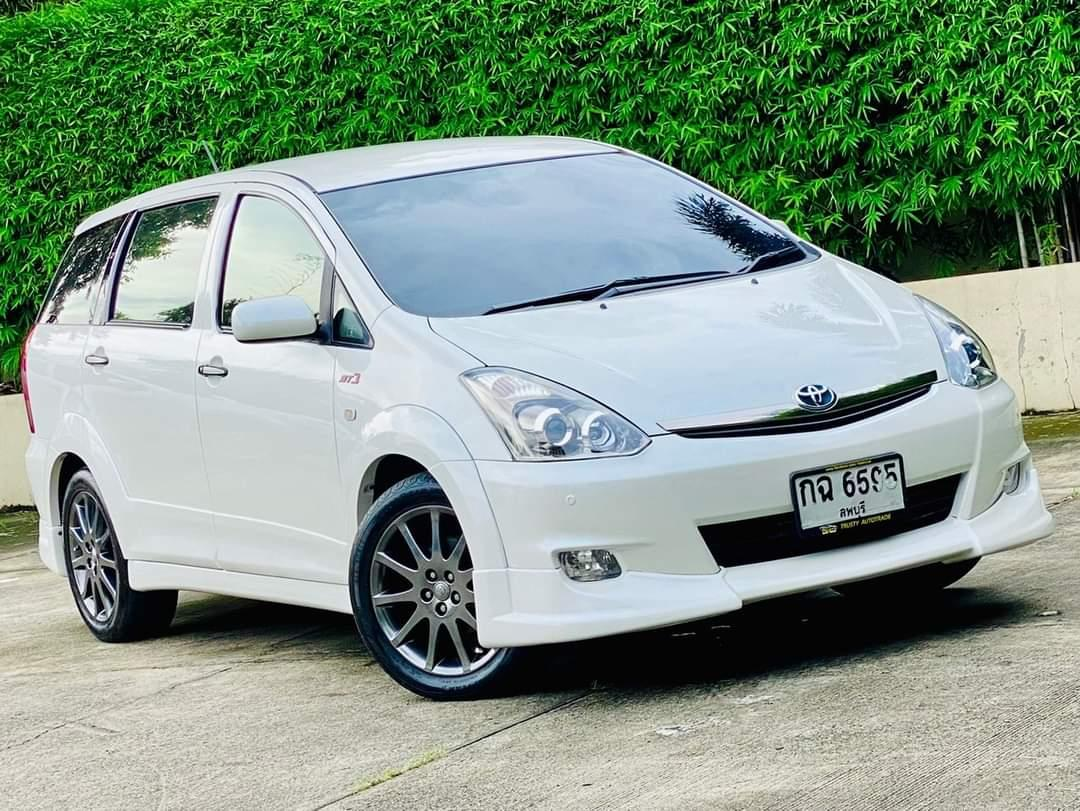license-plate: (779, 448, 917, 543)
